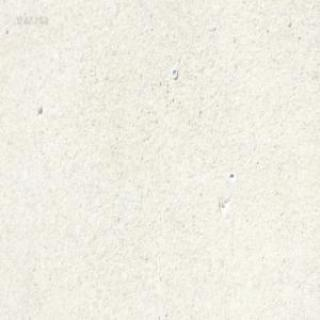Washertrack_idkeyframe: (170, 67, 177, 79)
